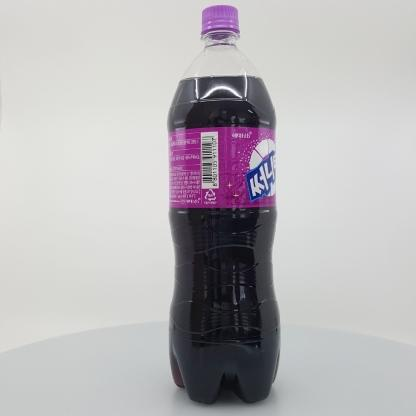-----------1-5L: (167, 5, 281, 404)
